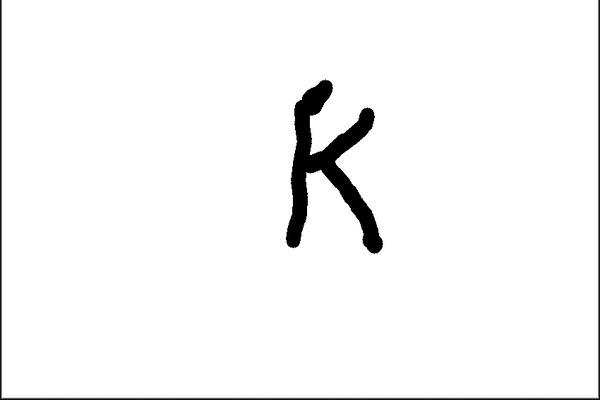K: (284, 73, 391, 258)
